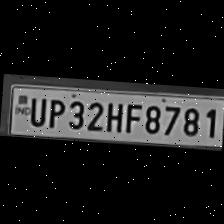1: (199, 105, 220, 138)
2: (83, 98, 105, 132)
3: (64, 97, 84, 130)
7: (159, 102, 180, 136)
8: (178, 104, 201, 137), (140, 101, 162, 134)
F: (120, 100, 140, 134)
H: (102, 98, 124, 132)
P: (42, 95, 64, 129)
U: (25, 94, 45, 127)
